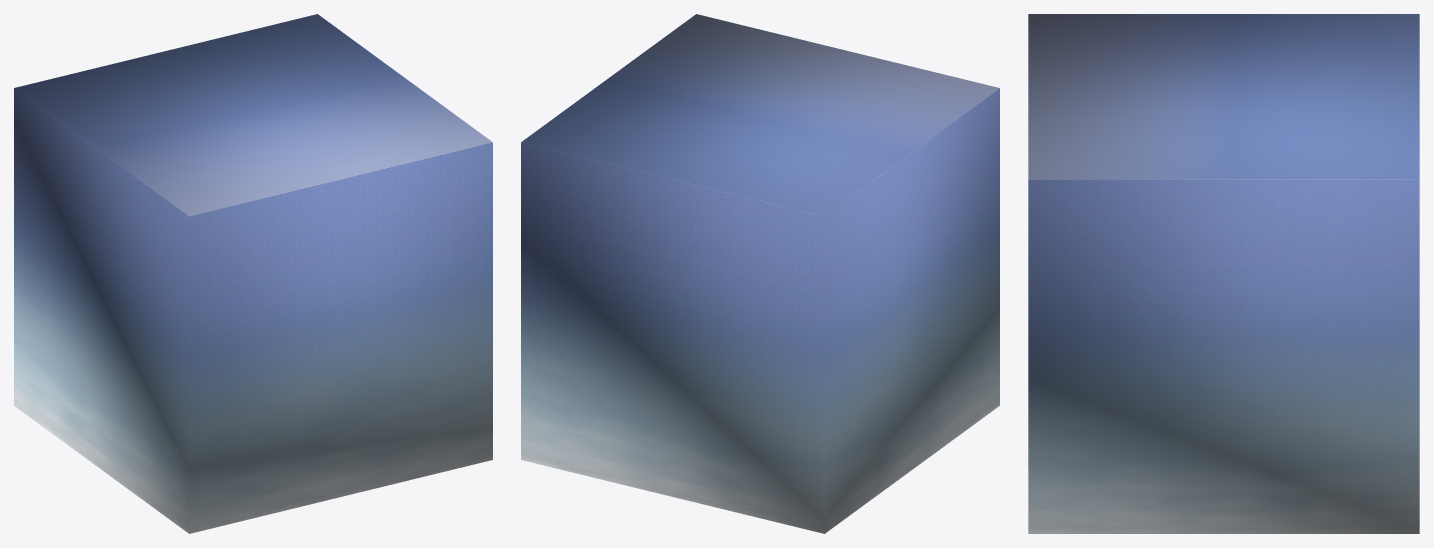
The model's file is Pro TOur Vert V2.fbx.
The picture shows the model from 3 angles, left to right: view 1: azimuth 30°, elevation 25°; view 2: azimuth 150°, elevation 25°; view 3: azimuth 270°, elevation 25°; orthographic projection. The views are drawn at different scales.
Visible parts, largest first — view 1: Cube; view 2: Cube; view 3: Cube.
Part boxes in pixels (x1,y1,x2,y2): Cube: [14, 14, 492, 533]; Cube: [521, 14, 999, 533]; Cube: [1028, 14, 1419, 533].
Bounding box in the file's own units: 24209 × 24209 × 24209.
Materials: 65 (65 with a texture image).
